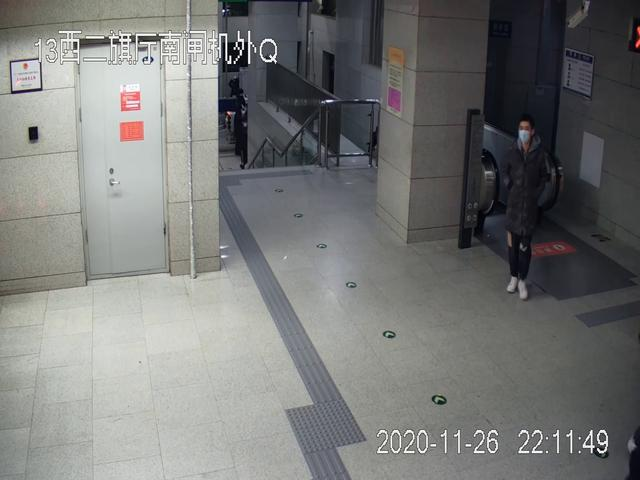person: (501, 118, 552, 301)
